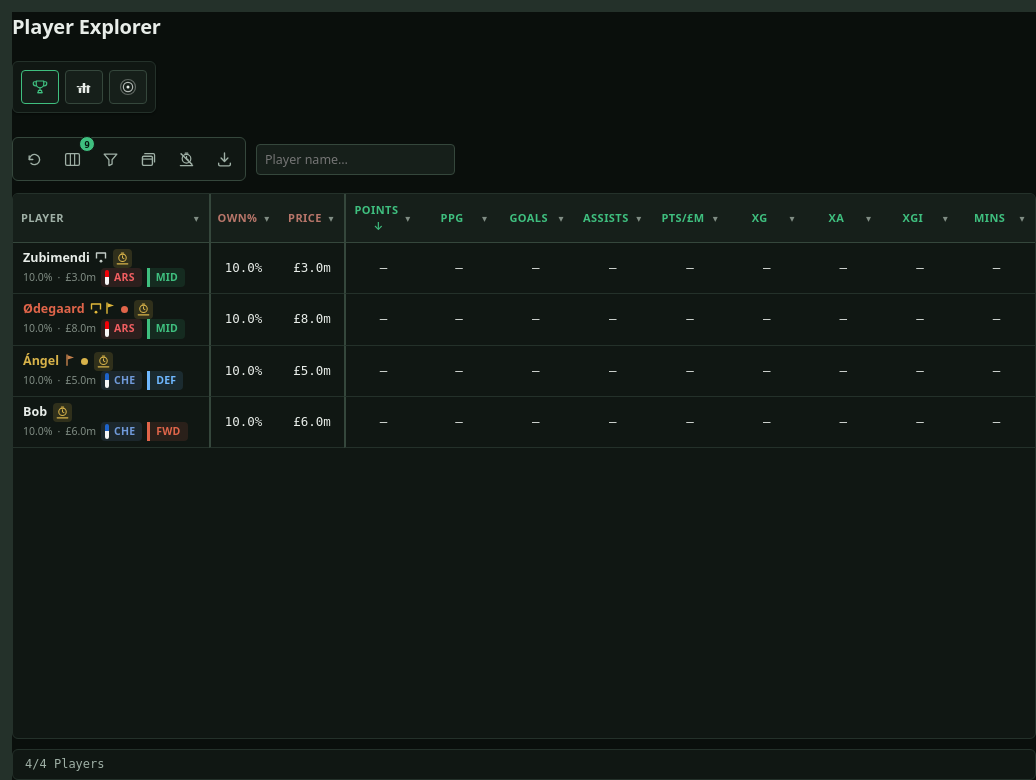
Test: Player Explorer — phase 2 regression tests (2026-09-25 audit) › L1: pressing Enter in a filter box applies it, and Escape closes the popover without applying
The width and height of the screenshot is (1036, 780).
Click the button named "Current Season".
click(128, 87)  # box left=109, top=70, right=147, bottom=104
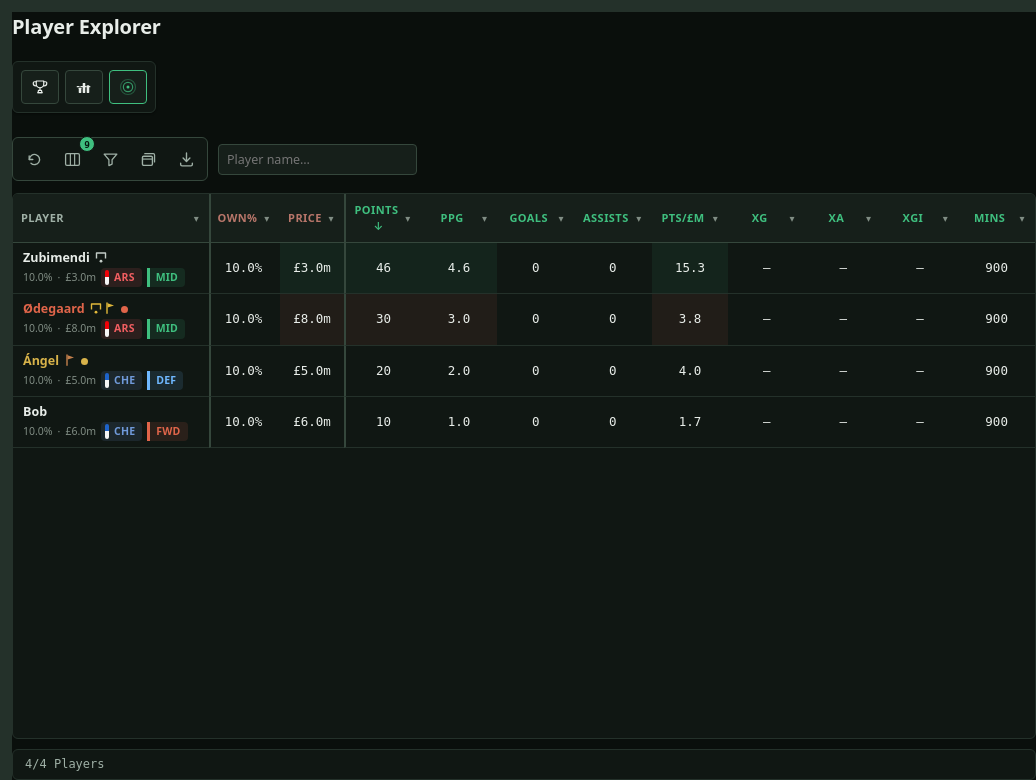
Click the button with class "column-filter-icon" next to "Points".
click(408, 218)  # box left=401, top=211, right=415, bottom=225
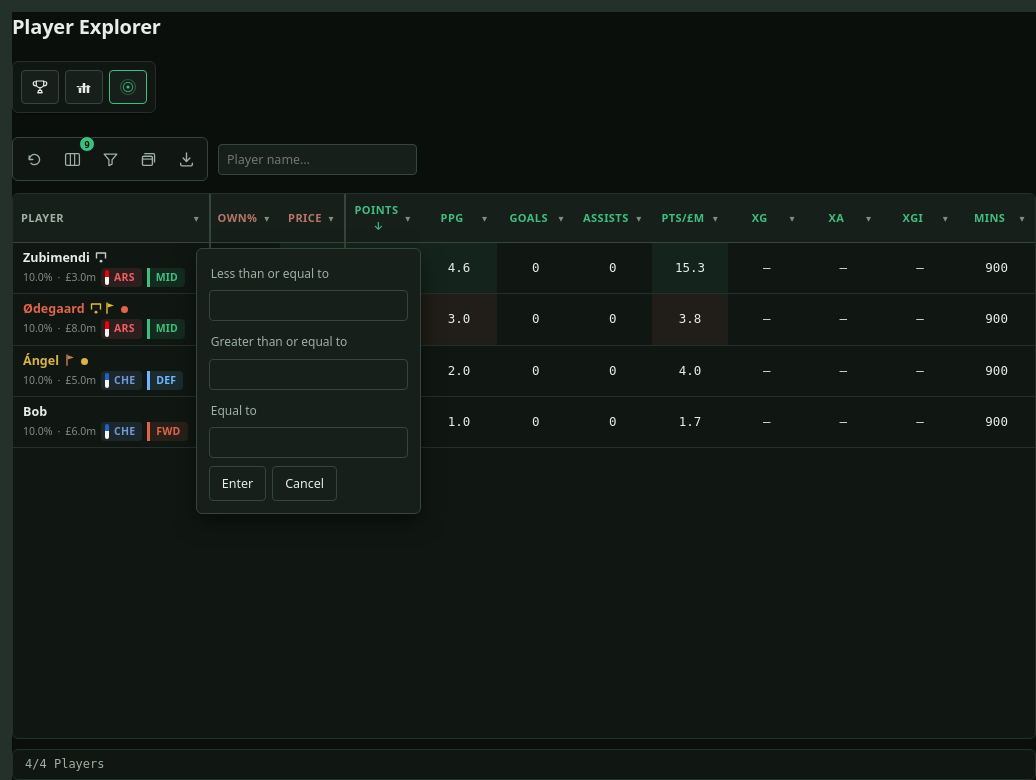
Type "30" into the number field below "Greater than or equal to".
click(308, 374); type("30")  # box left=209, top=359, right=408, bottom=390
Press Enter in the number field below "Greater than or equal to", box left=209, top=359, right=408, bottom=390
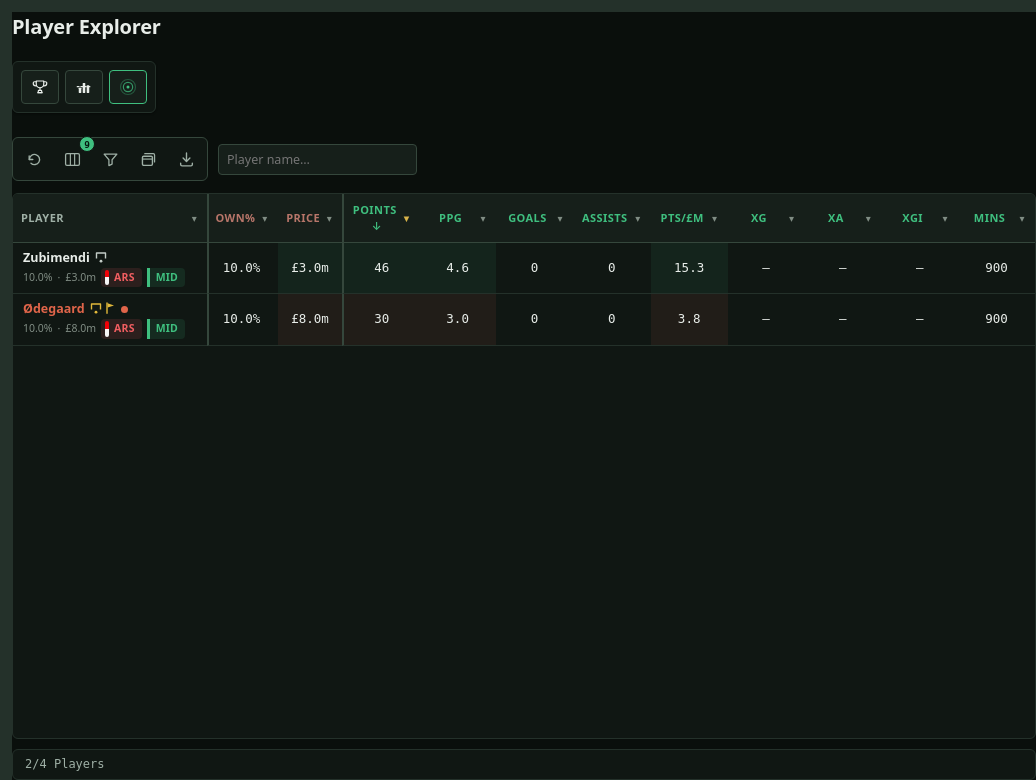
Now the element with class "column-filter-popover" is gone
Click the button with class "column-filter-icon" next to "Points".
click(406, 218)  # box left=399, top=211, right=413, bottom=225
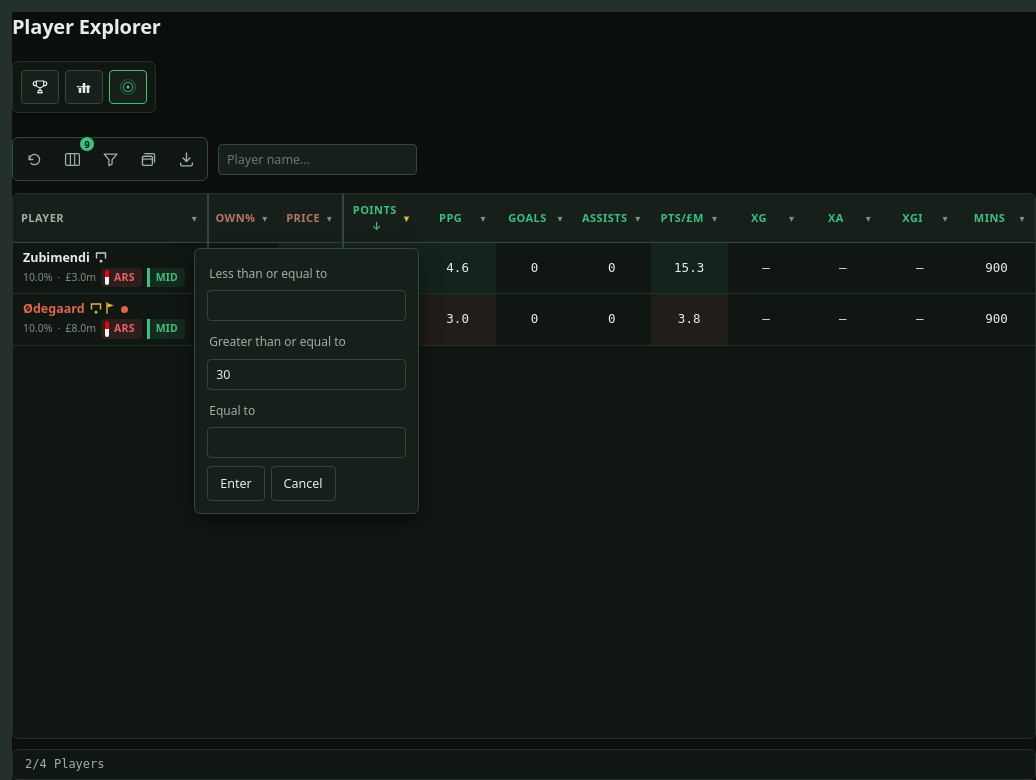
Replace the text in the number field below "Greater than or equal to" with "40" at (307,374), box left=207, top=359, right=406, bottom=390
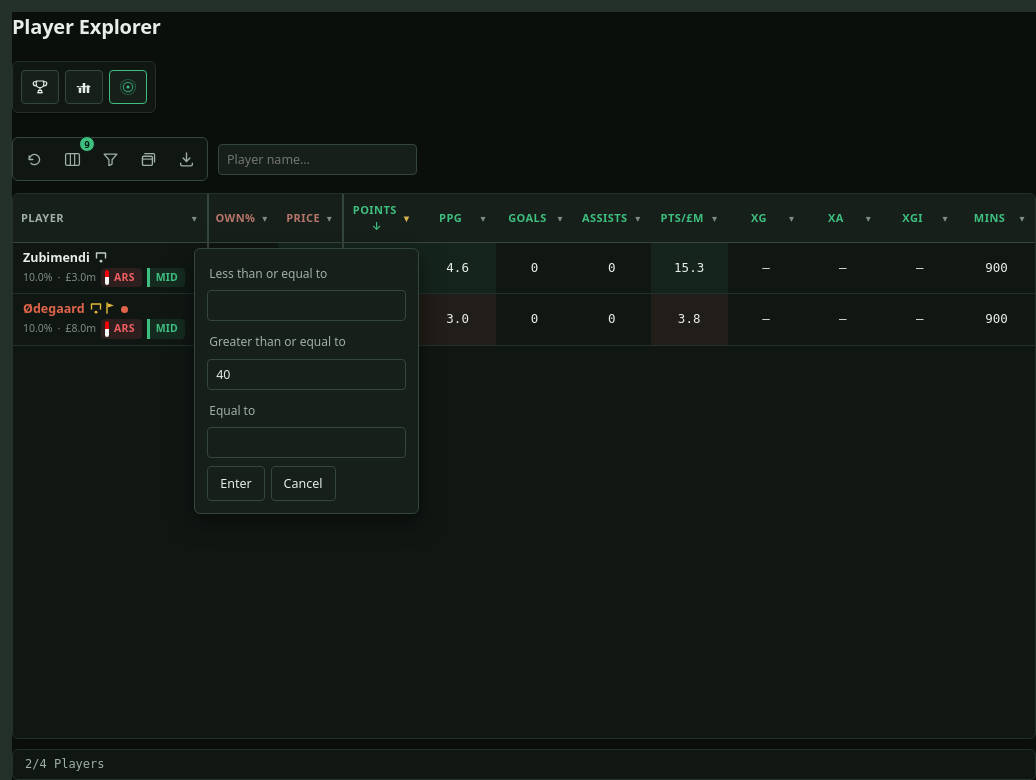
Press Escape
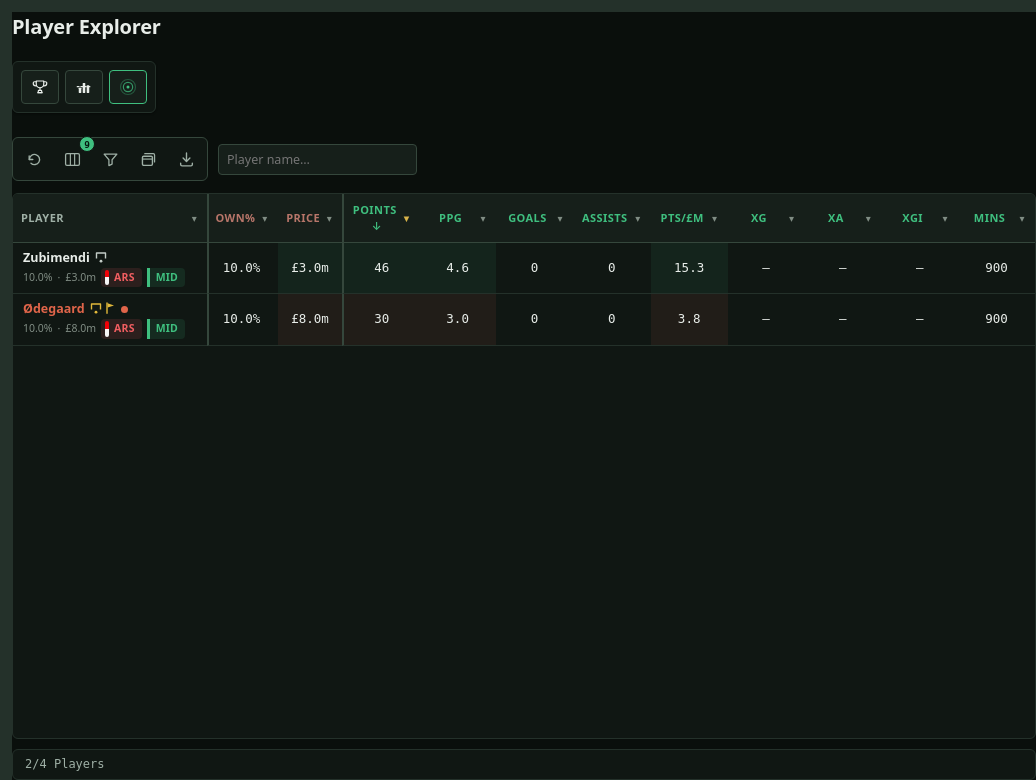
Now the element with class "column-filter-popover" is gone
